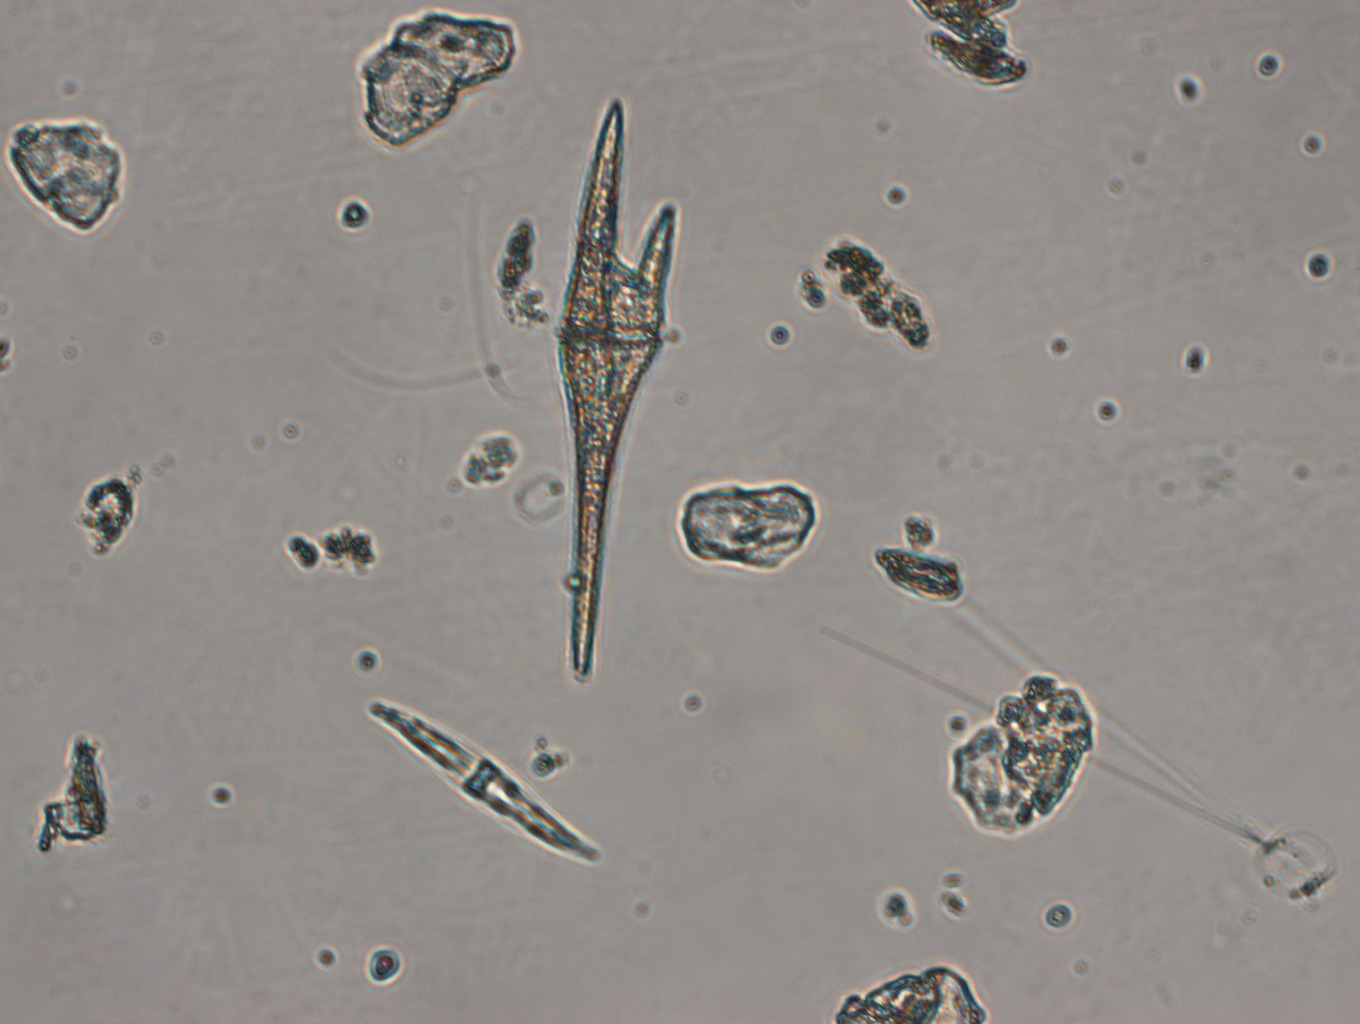ceratium furca: (555, 93, 681, 680)
pleurosigma pelagicum: (363, 694, 606, 863)
